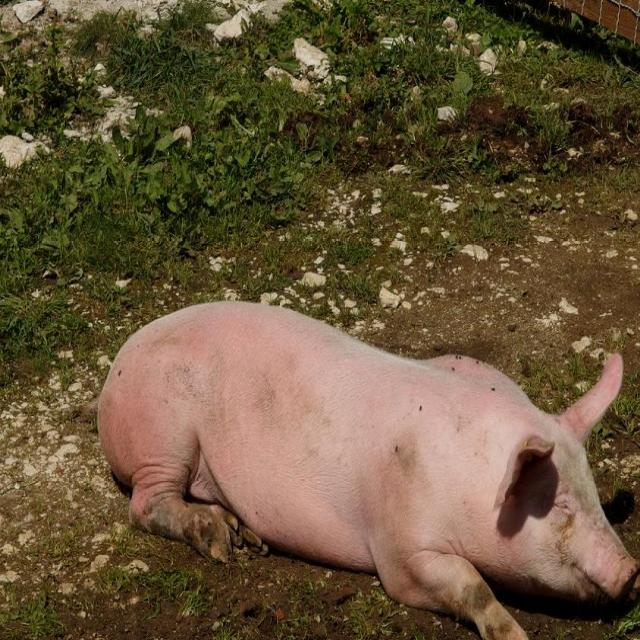pig: (98, 302, 640, 639)
